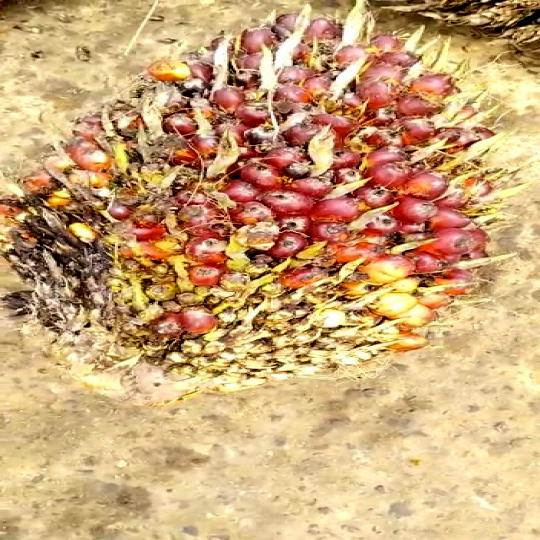masak: (0, 0, 499, 400)
